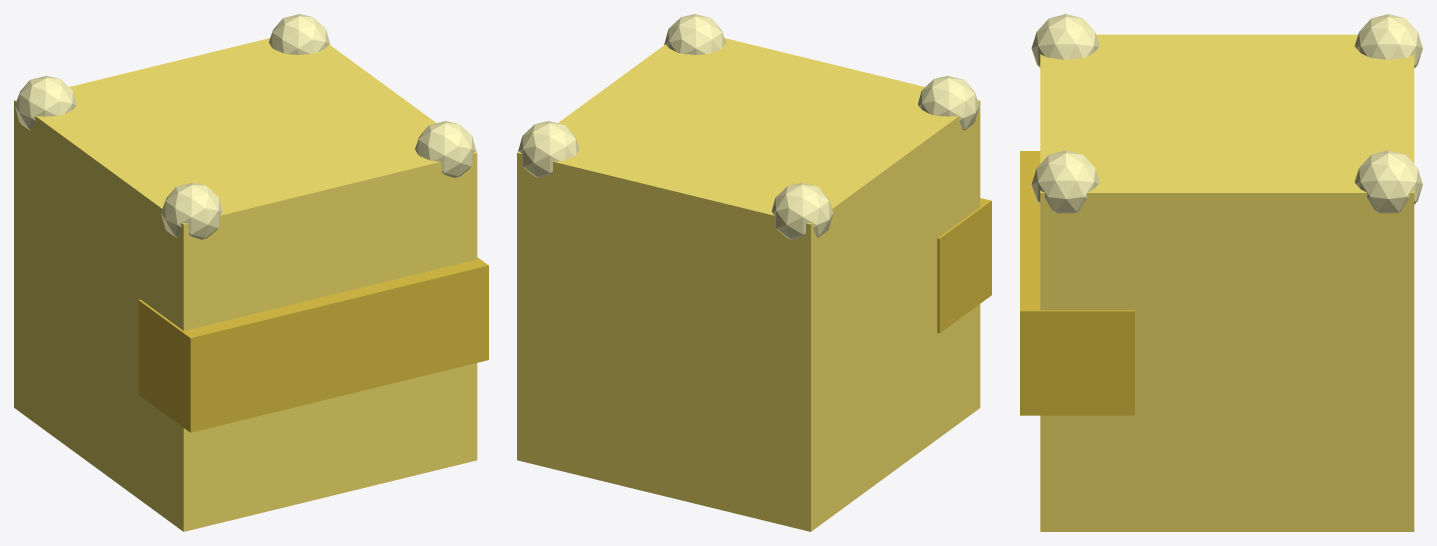
The model's file is item_box.glb.
3 views of the same model, side by side, from view 1: azimuth 30°, elevation 25°; view 2: azimuth 150°, elevation 25°; view 3: azimuth 270°, elevation 25° (orthographic). The views are drawn at different scales.
Visible parts, largest first — view 1: part_0, part_1, part_3, part_5, part_2, part_4; view 2: part_0, part_1, part_2, part_4, part_3, part_5; view 3: part_0, part_1, part_4, part_5, part_3, part_2.
Part boxes in pixels (left/top/right/bottom): part_0: left=14, top=38, right=477, bottom=531; part_1: left=138, top=257, right=488, bottom=432; part_3: left=161, top=182, right=222, bottom=239; part_5: left=415, top=121, right=476, bottom=177; part_2: left=15, top=75, right=76, bottom=130; part_4: left=269, top=14, right=330, bottom=54; part_0: left=517, top=38, right=980, bottom=531; part_1: left=937, top=198, right=991, bottom=333; part_2: left=772, top=182, right=833, bottom=239; part_4: left=518, top=121, right=579, bottom=177; part_3: left=918, top=75, right=979, bottom=130; part_5: left=664, top=14, right=725, bottom=54; part_0: left=1040, top=34, right=1414, bottom=531; part_1: left=1020, top=151, right=1134, bottom=415; part_4: left=1355, top=150, right=1422, bottom=213; part_5: left=1031, top=150, right=1099, bottom=213; part_3: left=1031, top=14, right=1099, bottom=68; part_2: left=1354, top=14, right=1422, bottom=67.
Bounding box in the file's own units: 0.68 × 0.705 × 0.7.
